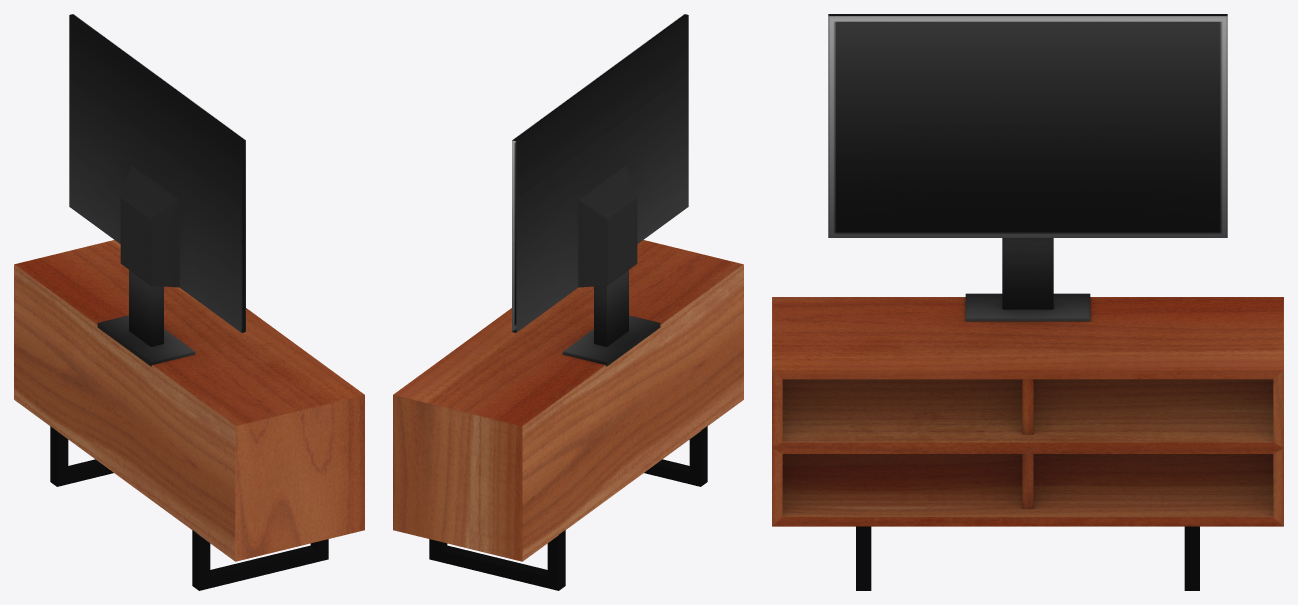
The model's file is tvstanding.glb.
3 renders of one model, left to right at view 1: azimuth 30°, elevation 25°; view 2: azimuth 150°, elevation 25°; view 3: azimuth 270°, elevation 25°, orthographic. The views are drawn at different scales.
Visible parts, largest first — view 1: Object_50.011; view 2: Object_50.011; view 3: Object_50.011.
Boxes of the visible parts, bbox=[...] form: Object_50.011: bbox=[14, 14, 364, 590]; Object_50.011: bbox=[393, 14, 743, 590]; Object_50.011: bbox=[772, 14, 1283, 590].
Size of the model in its own units: 0.3246 by 1.08 by 0.9592.
1 material, 1 textured.
